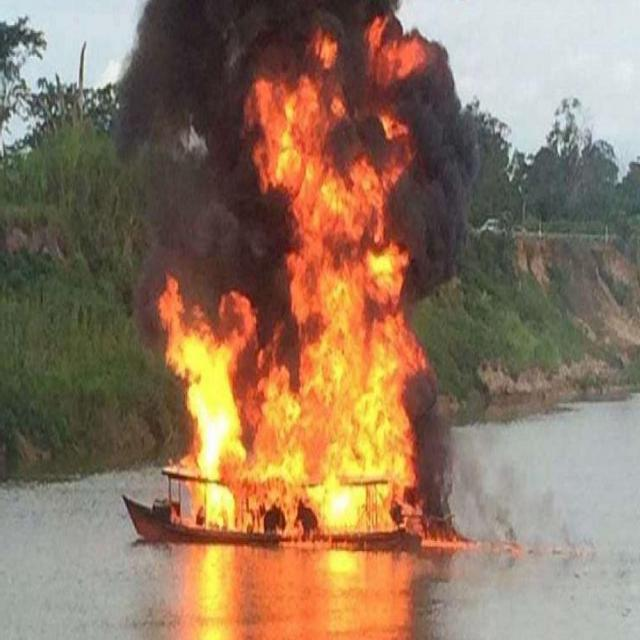fire: (157, 20, 434, 541)
